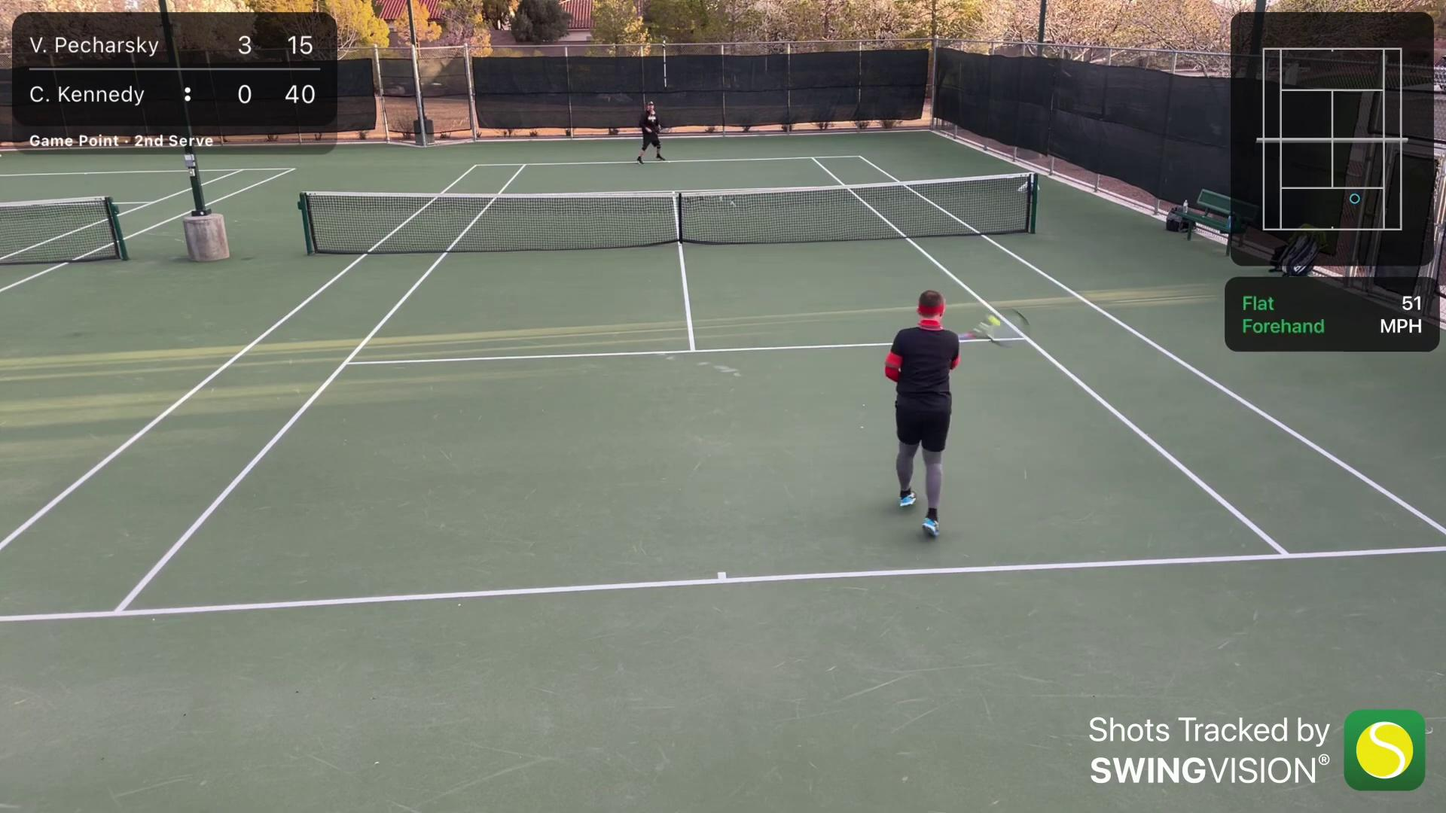ball: (985, 314, 1005, 327)
